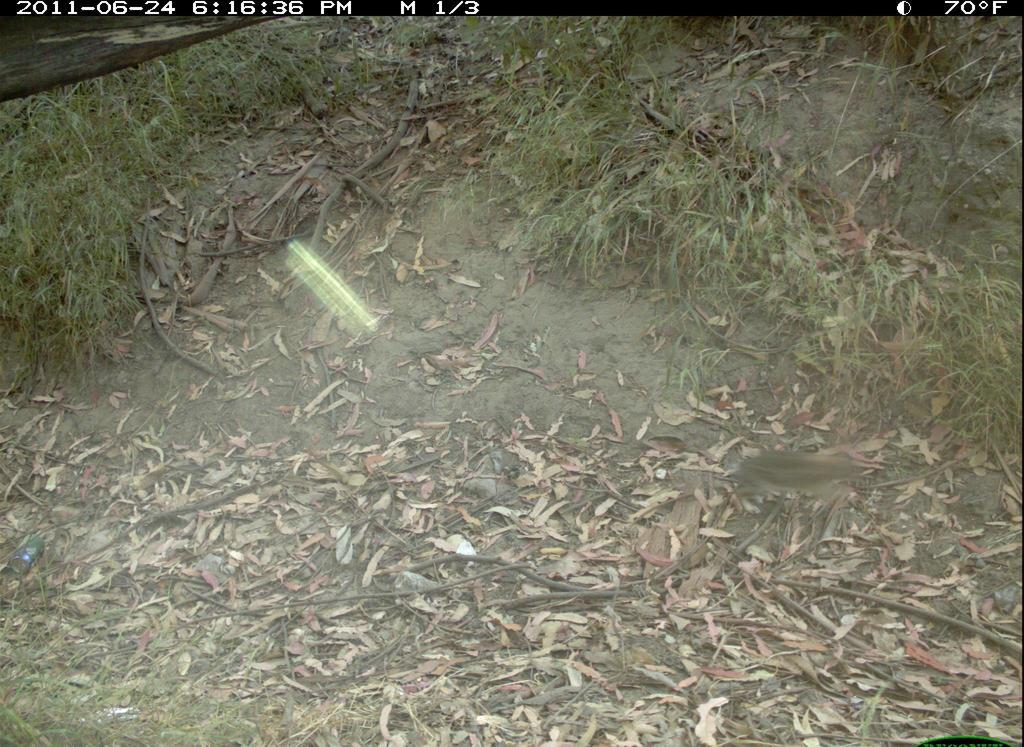rabbit: (724, 440, 865, 522)
